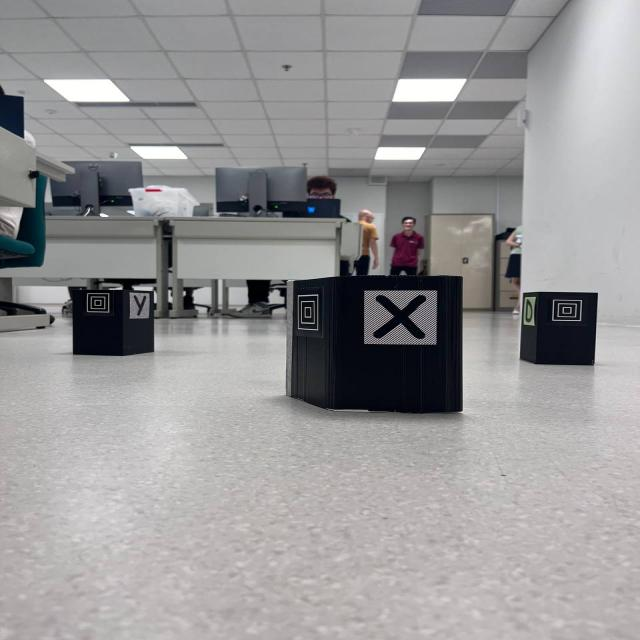D_id23: (523, 297, 538, 327)
X_id33: (363, 290, 438, 346)
Y_id34: (129, 292, 150, 319)
bullseye-id10: (294, 286, 324, 339), (547, 295, 587, 326), (82, 291, 115, 316)
